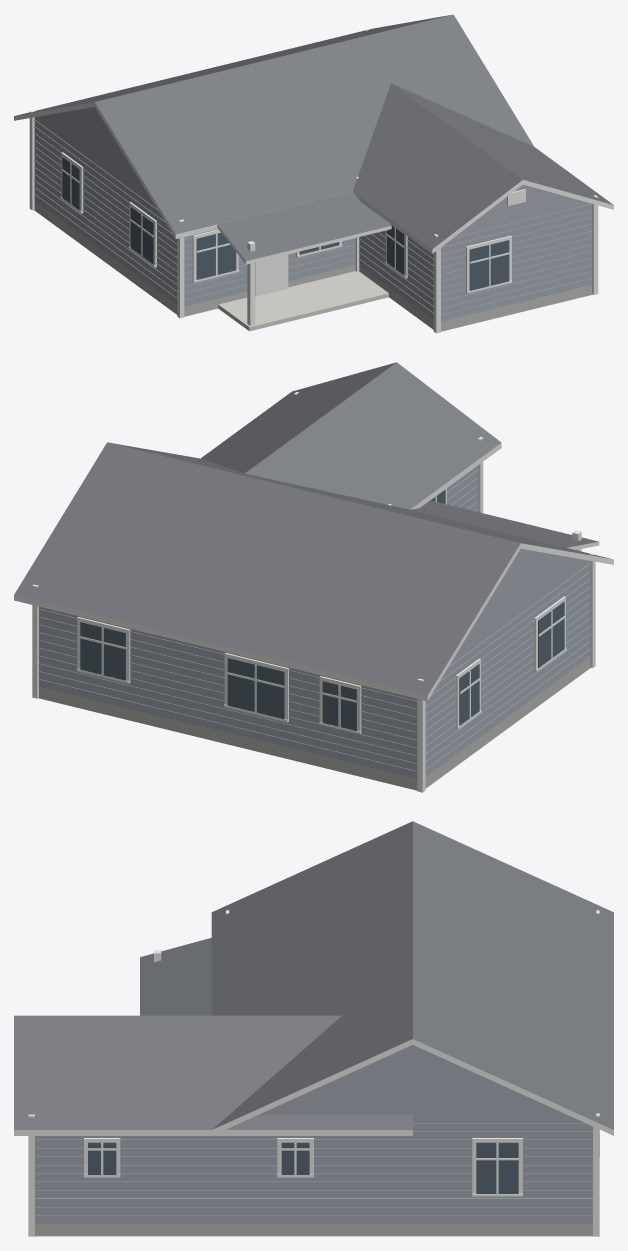
The model's file is pistachio-cottage.glb.
3 views of the same model, one above another, from view 1: azimuth 30°, elevation 25°; view 2: azimuth 150°, elevation 25°; view 3: azimuth 270°, elevation 25° (orthographic). The views are drawn at different scales.
Parts seen in each view (by area): view 1: The Pistachio (cottage); view 2: The Pistachio (cottage); view 3: The Pistachio (cottage).
Part boxes in pixels (x1,y1,x2,y2): The Pistachio (cottage): [14, 14, 613, 333]; The Pistachio (cottage): [14, 362, 613, 792]; The Pistachio (cottage): [14, 821, 613, 1236].
Size of the model in its own units: 11.12 by 4.88 by 12.95.
